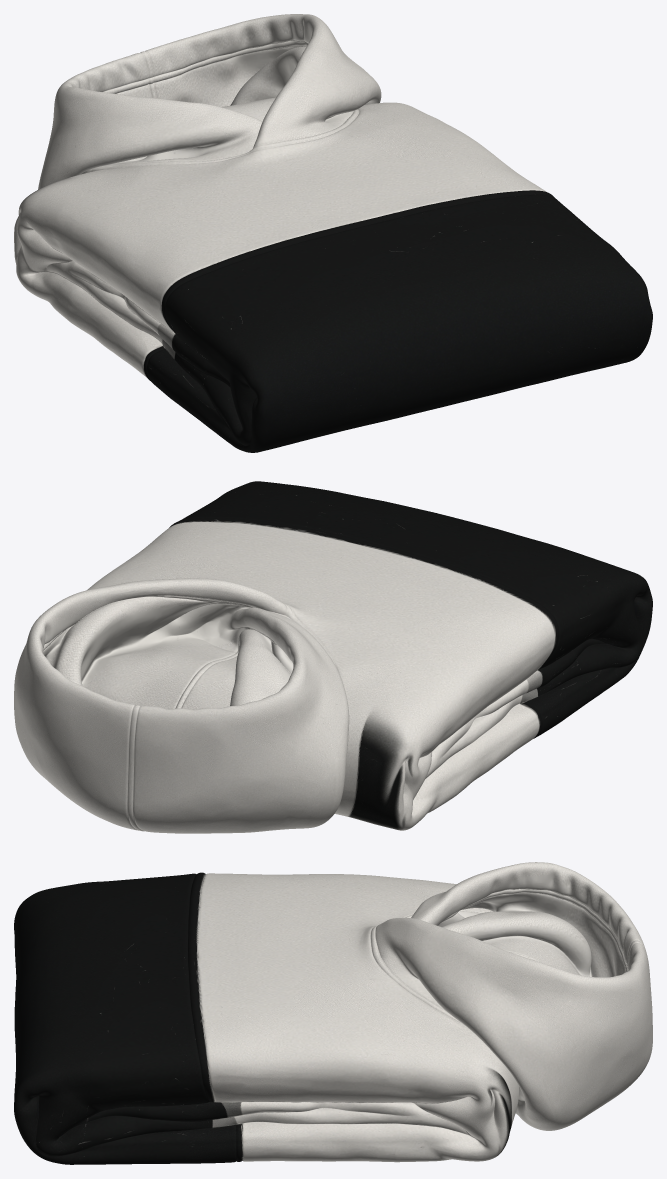
The model's file is folded-monochromatic-hoodie.glb.
3 renders of one model, top to bottom at view 1: azimuth 30°, elevation 25°; view 2: azimuth 150°, elevation 25°; view 3: azimuth 270°, elevation 25°, orthographic. The views are drawn at different scales.
Bounding box in the file's own units: 1.34 × 0.5774 × 1.9.
Materials: 1 (1 with a texture image).
